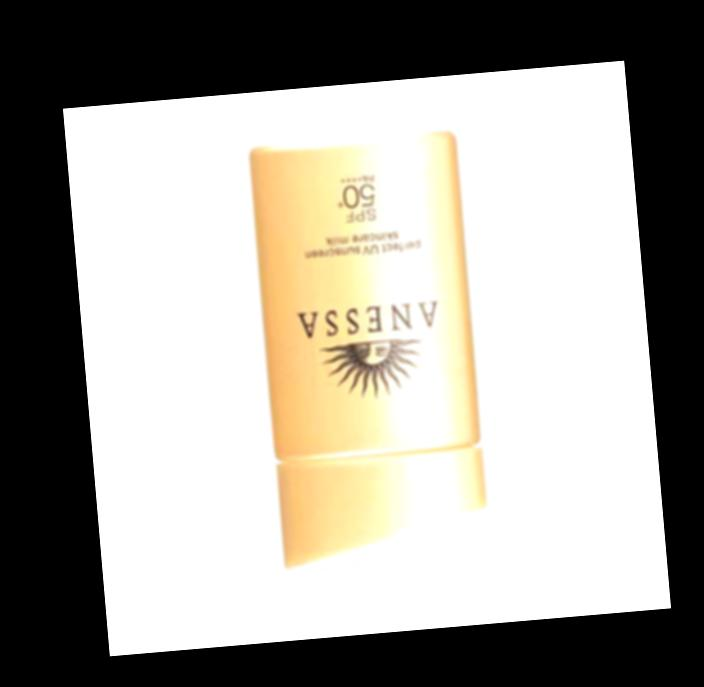cosmetic: (246, 135, 489, 573)
